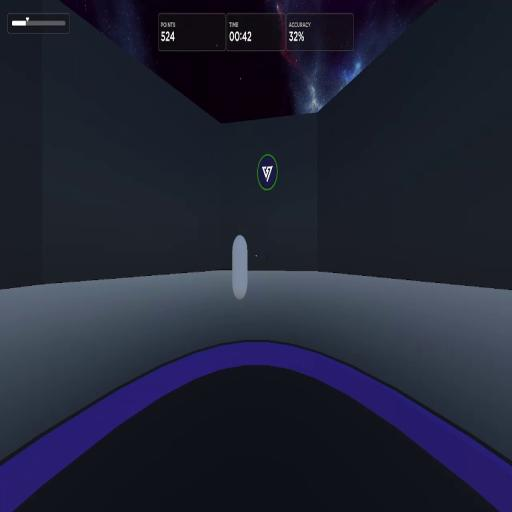Crosshair: (255, 254, 257, 257)
Target: (232, 234, 248, 300)
